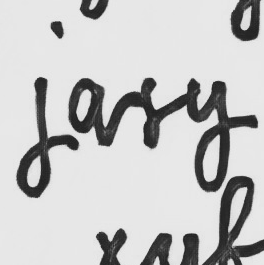a: (66, 76, 113, 147)
j: (14, 20, 65, 201)
s: (133, 75, 165, 150)
y: (181, 76, 234, 194)
